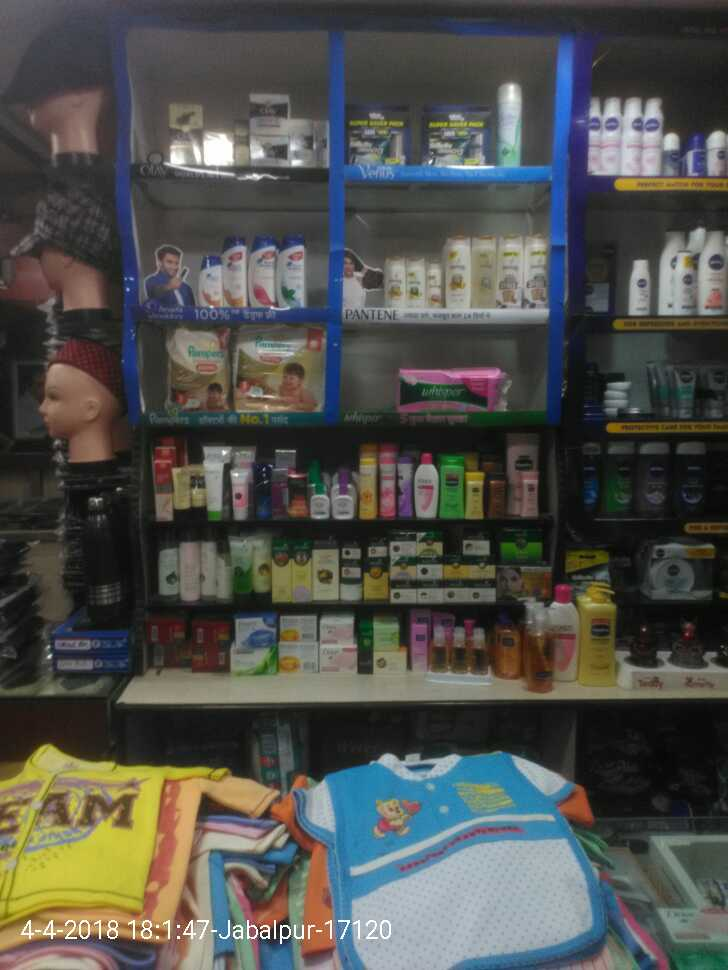venus: (345, 100, 414, 164), (421, 102, 492, 164), (495, 82, 522, 166)
